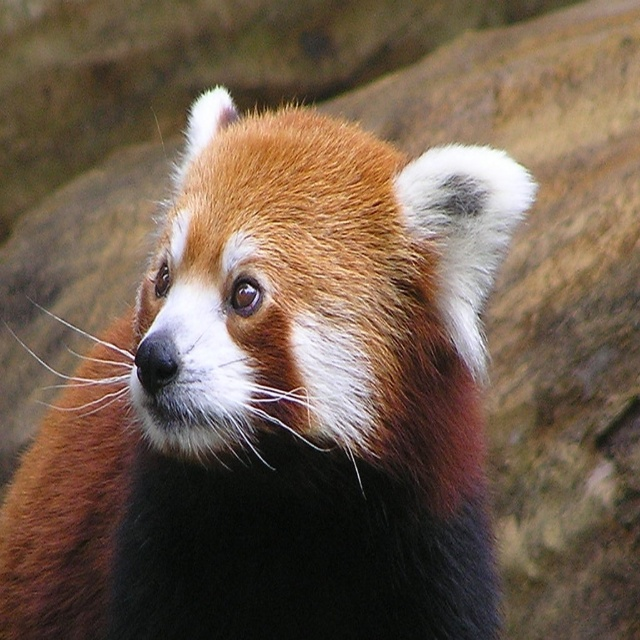Red panda: (0, 85, 540, 639)
